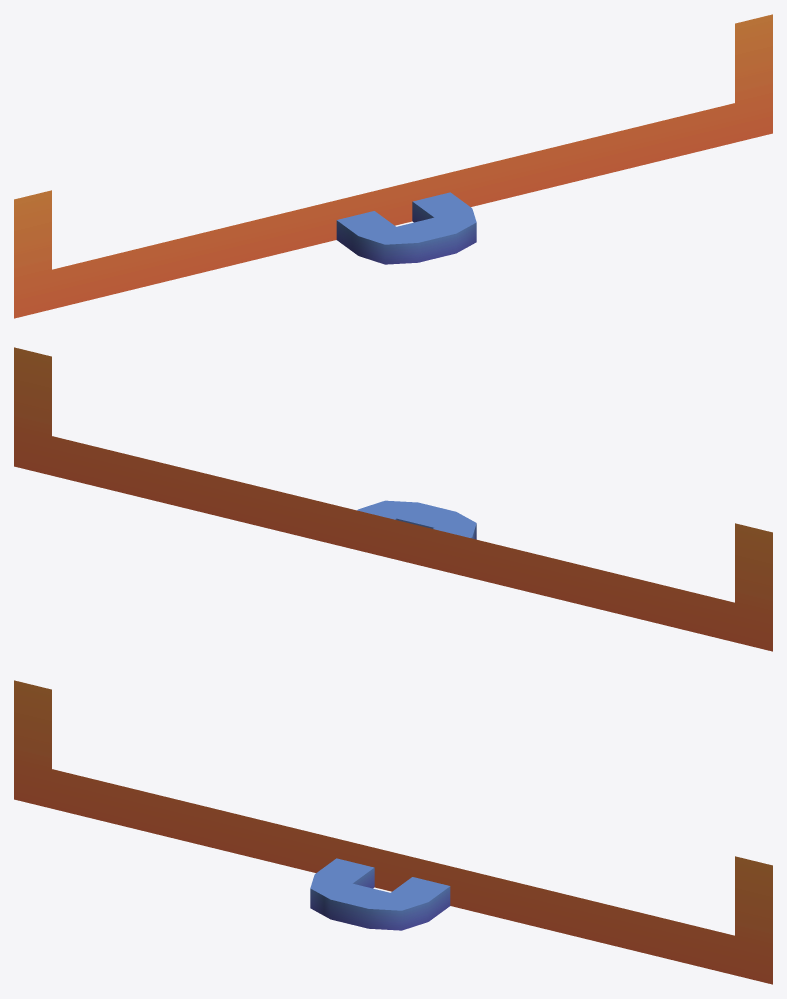
Rendered from track-wide-cap-back.glb.
3 views of the same model, one above another, from view 1: azimuth 30°, elevation 25°; view 2: azimuth 150°, elevation 25°; view 3: azimuth 330°, elevation 25° (orthographic).
Visible parts, largest first — view 1: track-wide-cap-back; view 2: track-wide-cap-back; view 3: track-wide-cap-back.
Boxes of the visible parts, <box> form: track-wide-cap-back: <box>14,14,772,318</box>; track-wide-cap-back: <box>14,347,772,651</box>; track-wide-cap-back: <box>14,680,772,984</box>.
Bounding box in the file's own units: 2 × 0.3001 × 0.2.
Materials: 1 (1 with a texture image).
